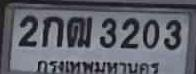0: (142, 18, 158, 48)
2: (18, 14, 37, 46), (120, 17, 138, 48)
3: (163, 19, 180, 49), (99, 17, 115, 47)
A01: (41, 15, 63, 46)
A18: (66, 16, 92, 47)
BKK: (31, 55, 168, 74)
